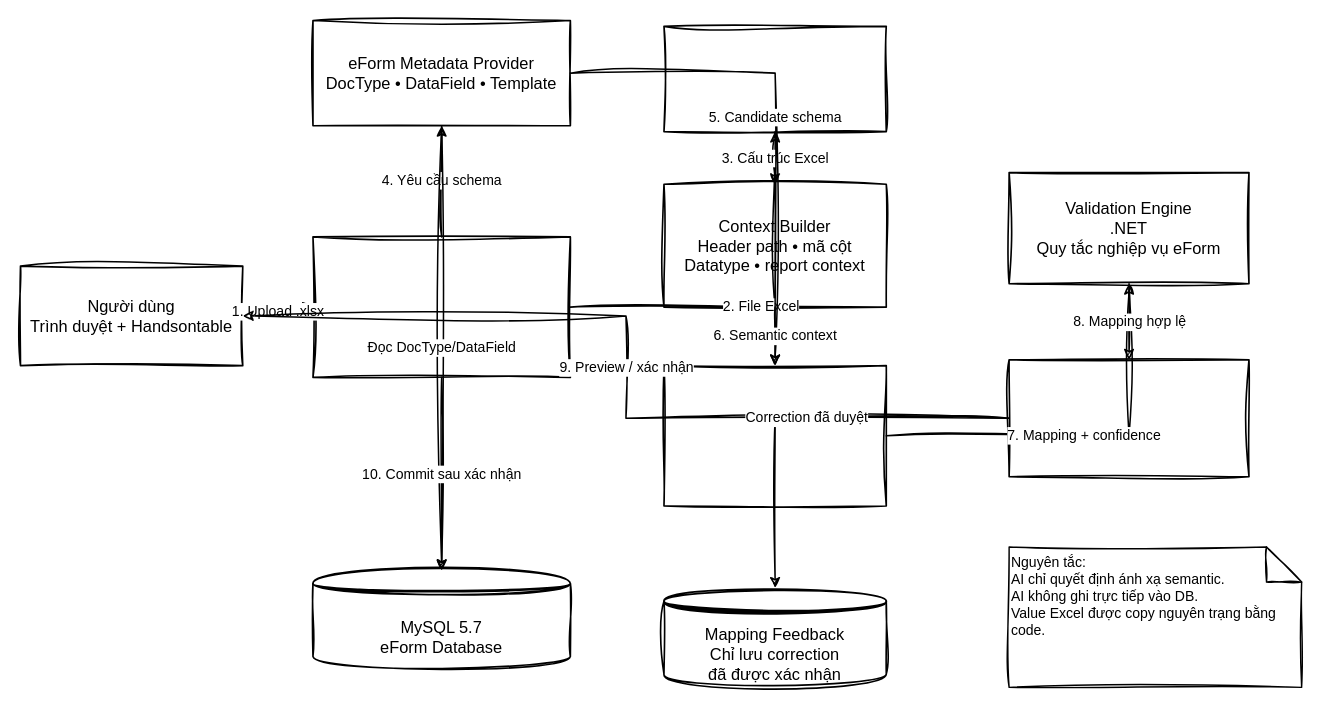
The diagram is 1323 pixels wide and 709 high, and some of its shapes have lost their labels. Here are the shapes that lost their labels. From the top down, the centre of each, then its label:
point (775, 78): Excel Parser openpyxl / Python Đọc sheet, merge, header
point (441, 307): Module Import Excel .NET MVC / API Điều phối toàn bộ luồng
point (775, 435): EFormExcelMapper-v1 BGE-M3 fine-tuned Semantic ranking + confidence
point (1128, 417): Mapping Plan + Preview Ma trận 2D cho Handsontable
